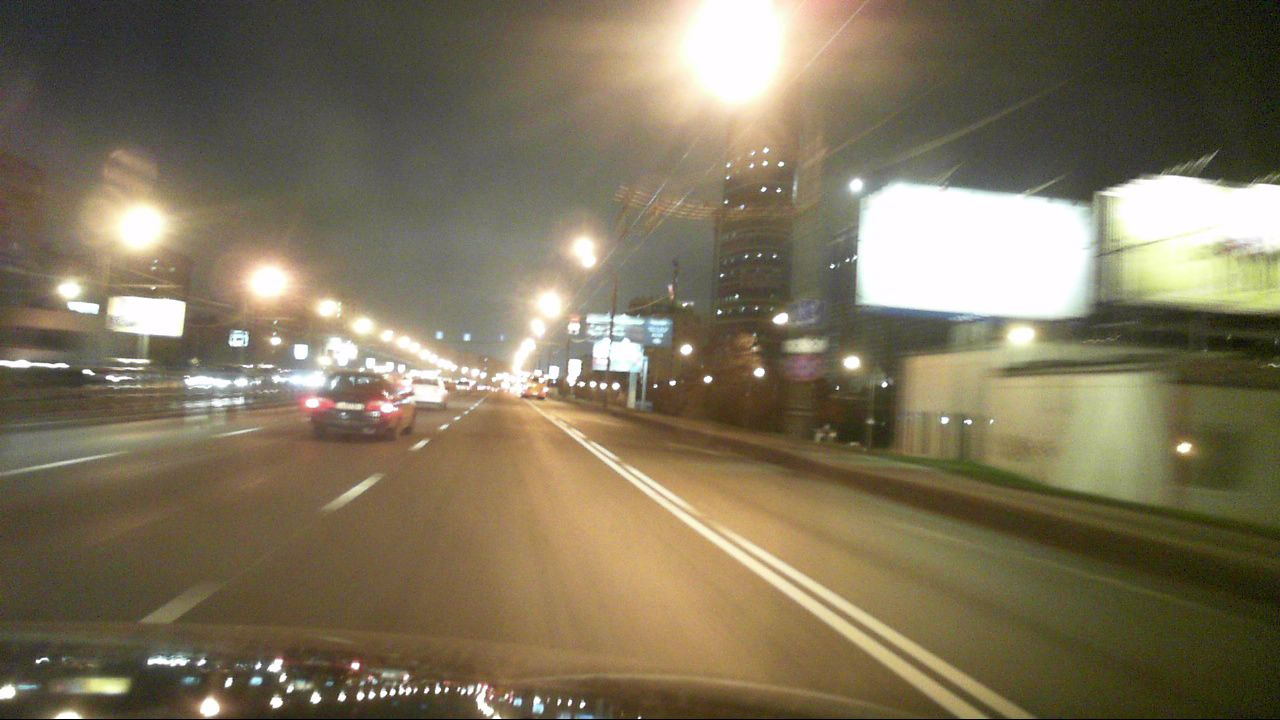No Parking: (790, 354, 820, 382)
